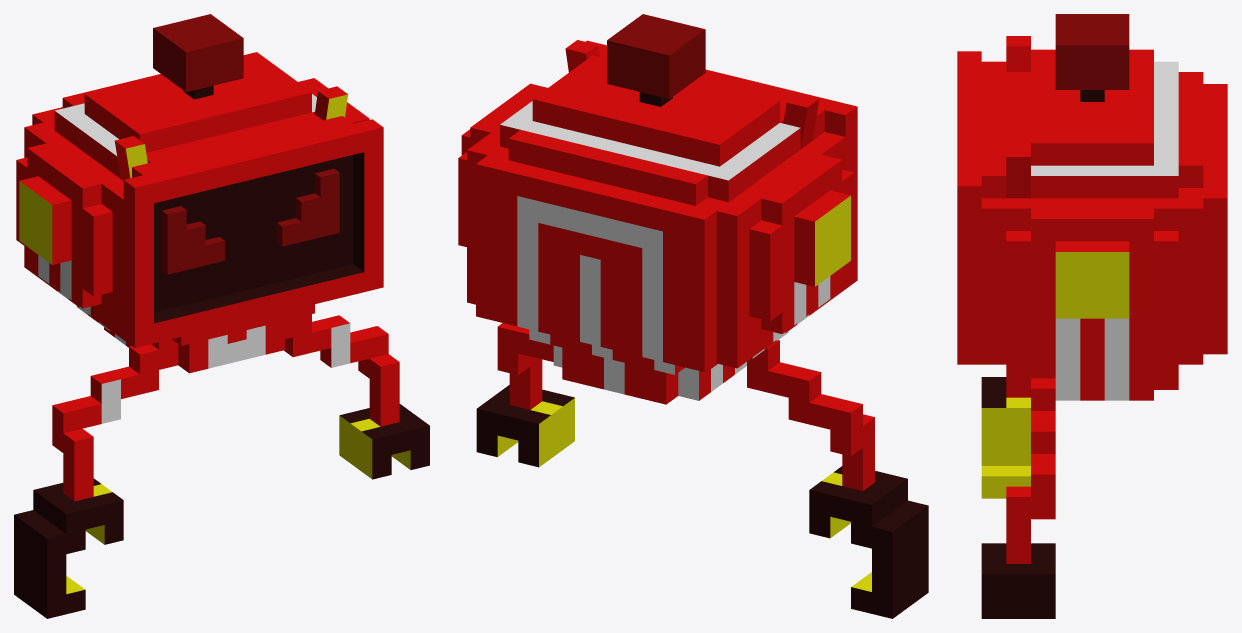
File: Explode.fbx
3 renders of one model, left to right at view 1: azimuth 30°, elevation 25°; view 2: azimuth 150°, elevation 25°; view 3: azimuth 270°, elevation 25°, orthographic. The views are drawn at different scales.
Parts seen in each view (by area): view 1: pCube2; view 2: pCube2; view 3: pCube2.
Part boxes in pixels (x1,y1,x2,y2): pCube2: [14, 14, 429, 618]; pCube2: [458, 14, 928, 618]; pCube2: [957, 14, 1227, 618].
Bounding box in the file's own units: 2 × 2.5 × 1.1.
